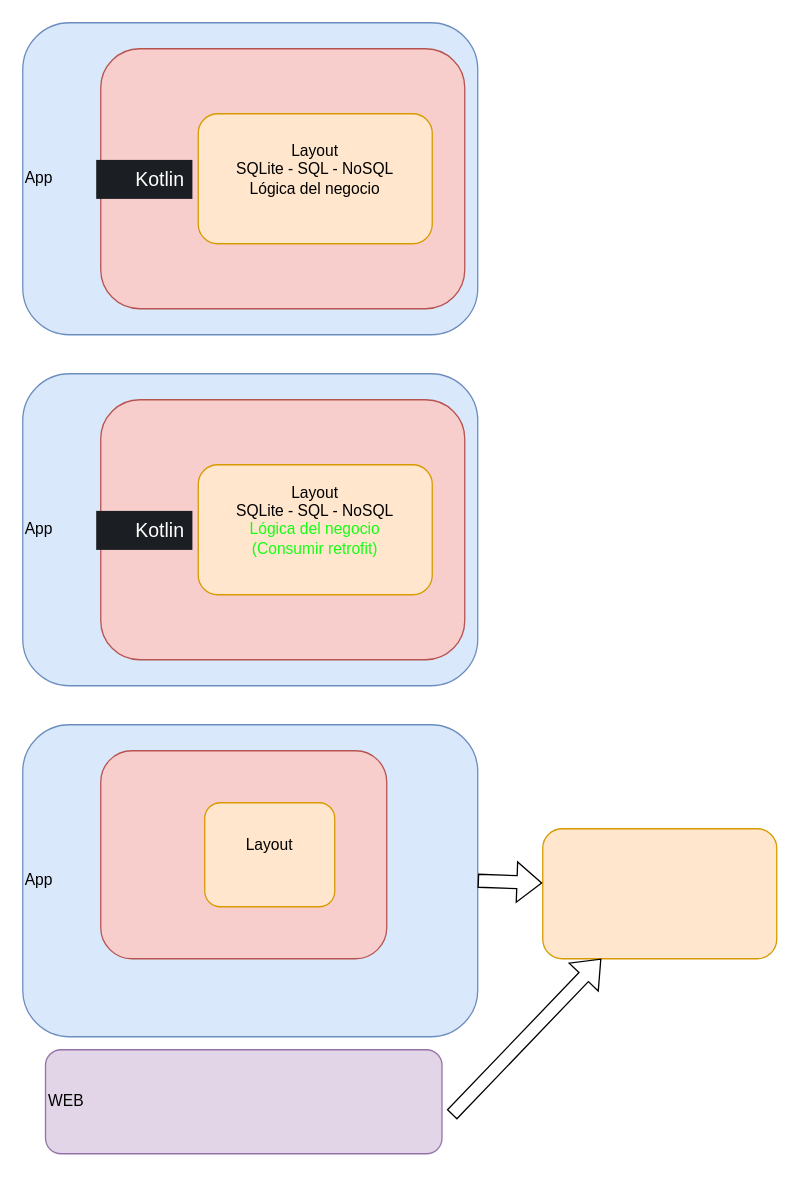
Image size: 800x1177. Some labels were removed from this diagram. The shapes that lost their labels are listed below. From the top down, each one's box as (x1, y1, x2, y2) in pixels, then its label:
(99, 749, 387, 959): Kotlin IONIC React Native Flutter
(541, 827, 777, 959): Lógica del negocio API
